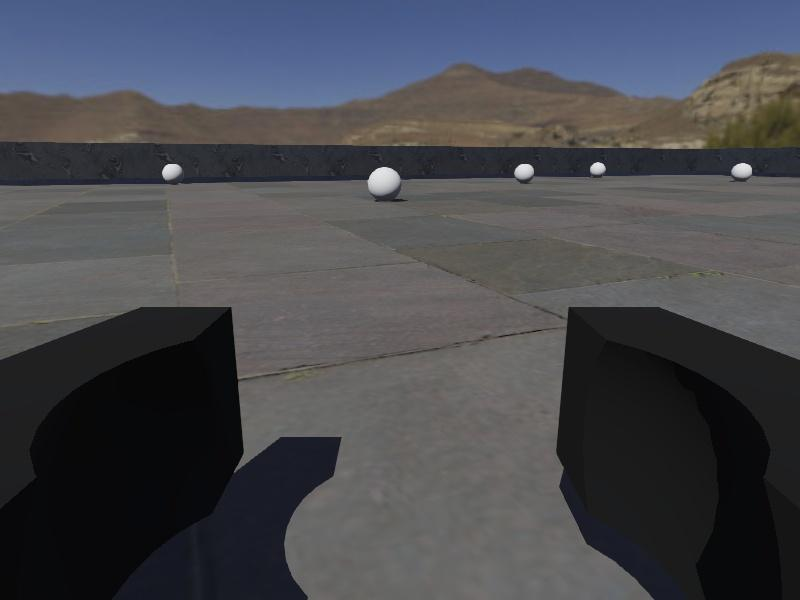white ball: (368, 166, 402, 201), (162, 162, 185, 185), (513, 162, 535, 185), (732, 162, 753, 183), (590, 161, 606, 176)
